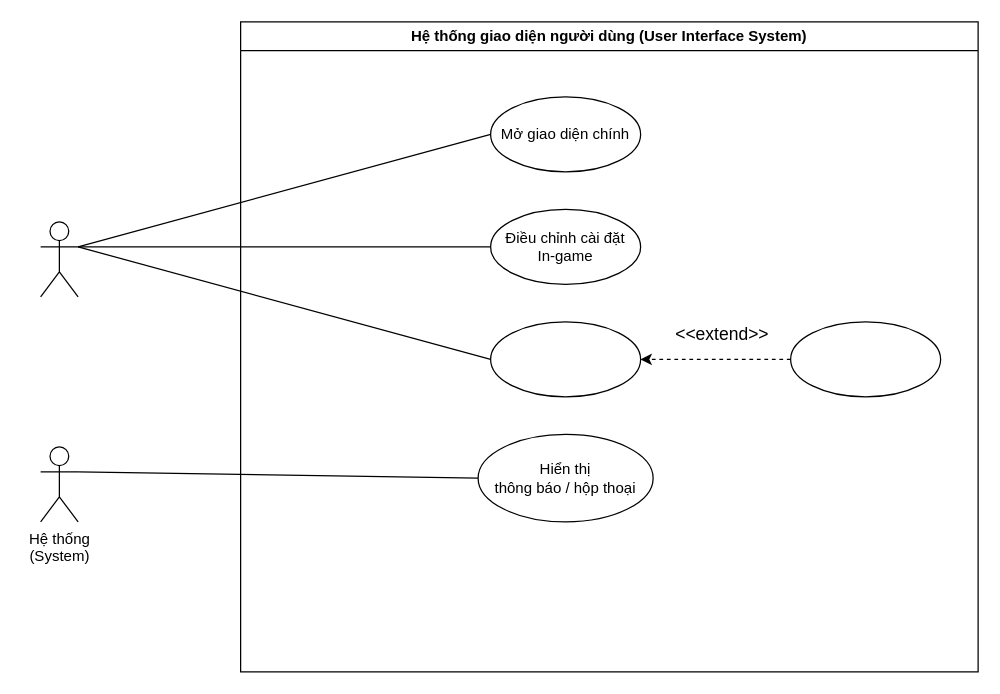
This 1000x694 diagram has some shape labels left out. The shapes that lost their labels are listed below. From the top down, each one's centre as x and y in pixels, then its label:
the point at 58,259: Người chơi (Player)
the point at 565,359: Tạm dừng trò chơi
the point at 865,359: Tiếp tục trò chơi
